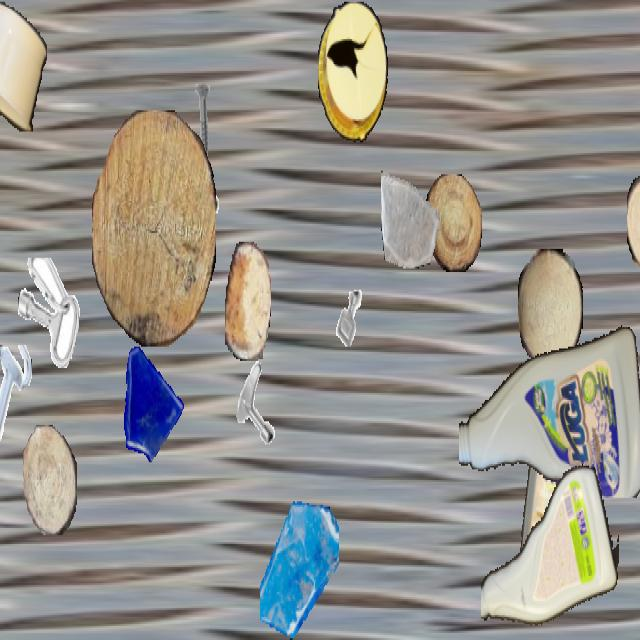glass: (260, 500, 338, 638), (114, 336, 184, 460), (381, 164, 439, 266)
metal: (167, 176, 229, 286), (18, 258, 80, 368), (230, 356, 284, 452), (179, 80, 227, 165), (328, 279, 372, 357), (0, 345, 34, 441)
plastic: (459, 313, 640, 498), (481, 457, 619, 638), (515, 386, 581, 602), (318, 2, 388, 140), (0, 2, 47, 130)
wood: (92, 110, 216, 345), (518, 249, 582, 363), (23, 425, 77, 535), (225, 242, 271, 359), (425, 174, 481, 270), (627, 170, 640, 266)
